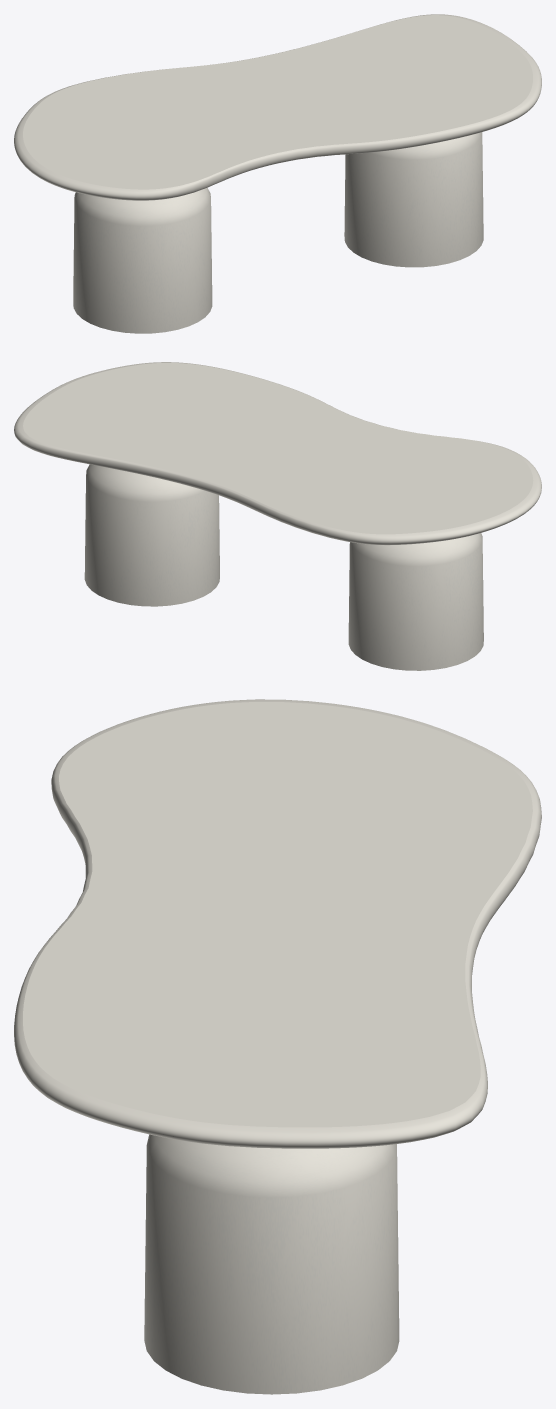
The model's file is pale_wave_round_tornado.glb.
The picture shows the model from 3 angles, top to bottom: view 1: azimuth 30°, elevation 25°; view 2: azimuth 150°, elevation 25°; view 3: azimuth 270°, elevation 25°; orthographic projection. The views are drawn at different scales.
Visible parts, largest first — view 1: round_wave, tornado; view 2: round_wave, tornado; view 3: round_wave, tornado.
Part boxes in pixels (x1,y1,x2,y2): round_wave: (14, 14, 541, 200); tornado: (73, 132, 483, 333); round_wave: (14, 362, 541, 545); tornado: (84, 464, 483, 670); round_wave: (14, 699, 541, 1148); tornado: (144, 1134, 399, 1394).
Size of the model in its own units: 7.76 by 2.5 by 3.93.
Materials: 1 (1 with a texture image).
